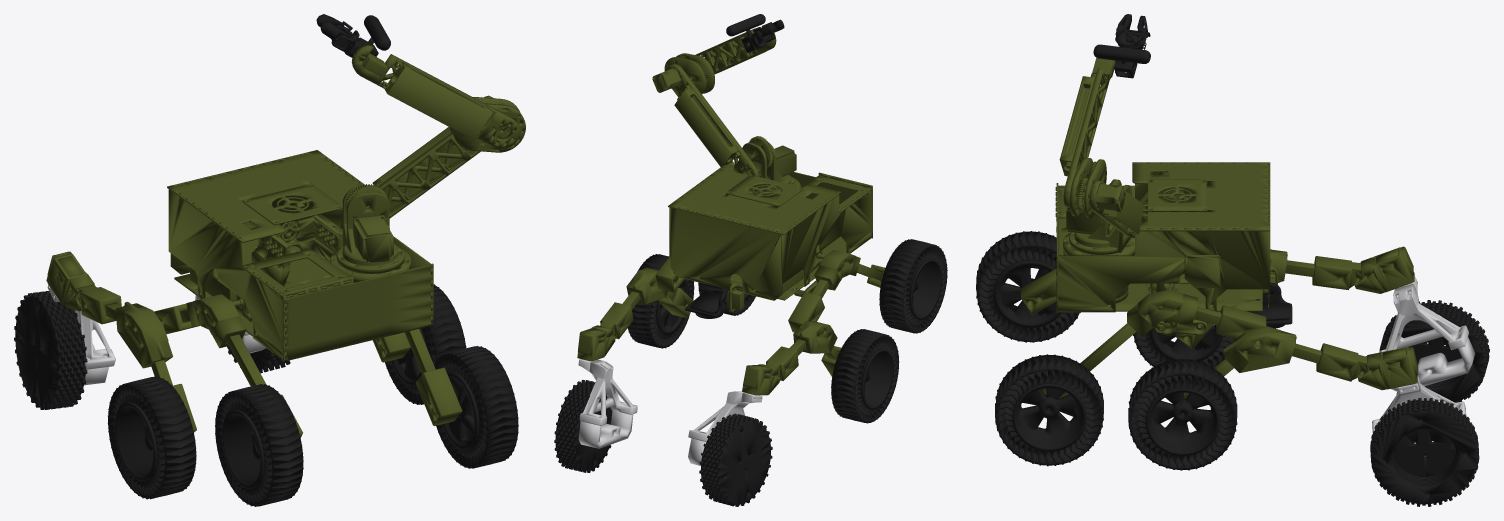
File: taurus_rover.glb
3 views of the same model, side by side, from view 1: azimuth 30°, elevation 25°; view 2: azimuth 150°, elevation 25°; view 3: azimuth 270°, elevation 25° (orthographic). The views are drawn at different scales.
Visible parts, largest first — view 1: Frame, WRL, WML, WRR, WFL, A-J3, RB2L, A-J2, A-J1, RB1L, WMR, RB1R (+4 smaller); view 2: Frame, WFL, WRL, WML, A-J2, RB2R, TR, RB2L, WFR, RB1L, WMR, A-J1 (+6 smaller); view 3: Frame, WMR, WRR, WFR, WRL, RB2R, RB1R, RB2L, TL, WFL, A-J3, A-J2 (+6 smaller).
Part boxes in pixels (x1,y1,x2,y2): Frame: [167, 150, 433, 361]; WRL: [215, 384, 303, 506]; WML: [107, 376, 196, 499]; WRR: [434, 346, 518, 468]; WFL: [14, 291, 87, 409]; A-J3: [351, 45, 519, 148]; RB2L: [46, 251, 196, 431]; A-J2: [372, 95, 525, 218]; A-J1: [330, 184, 410, 282]; RB1L: [154, 294, 302, 437]; WMR: [385, 284, 466, 404]; RB1R: [405, 329, 462, 425]; Frame: [668, 164, 872, 312]; WFL: [699, 413, 772, 506]; WRL: [879, 239, 947, 333]; WML: [831, 329, 899, 423]; A-J2: [652, 53, 759, 176]; RB2R: [577, 268, 693, 361]; TR: [578, 359, 637, 448]; RB2L: [742, 321, 841, 395]; WFR: [554, 380, 612, 472]; RB1L: [788, 250, 885, 332]; WMR: [627, 254, 694, 348]; A-J1: [742, 136, 800, 197]; Frame: [1055, 162, 1277, 335]; WMR: [1128, 358, 1237, 470]; WRR: [995, 354, 1103, 466]; WFR: [1370, 398, 1479, 506]; WRL: [976, 231, 1080, 342]; RB2R: [1184, 326, 1418, 408]; RB1R: [1041, 289, 1266, 398]; RB2L: [1175, 246, 1414, 348]; TL: [1379, 277, 1475, 391]; WFL: [1379, 300, 1489, 402]; A-J3: [1059, 57, 1115, 210]; A-J2: [1070, 157, 1143, 237].
Bounding box in the file's own units: 0.6897 × 0.9622 × 1.
